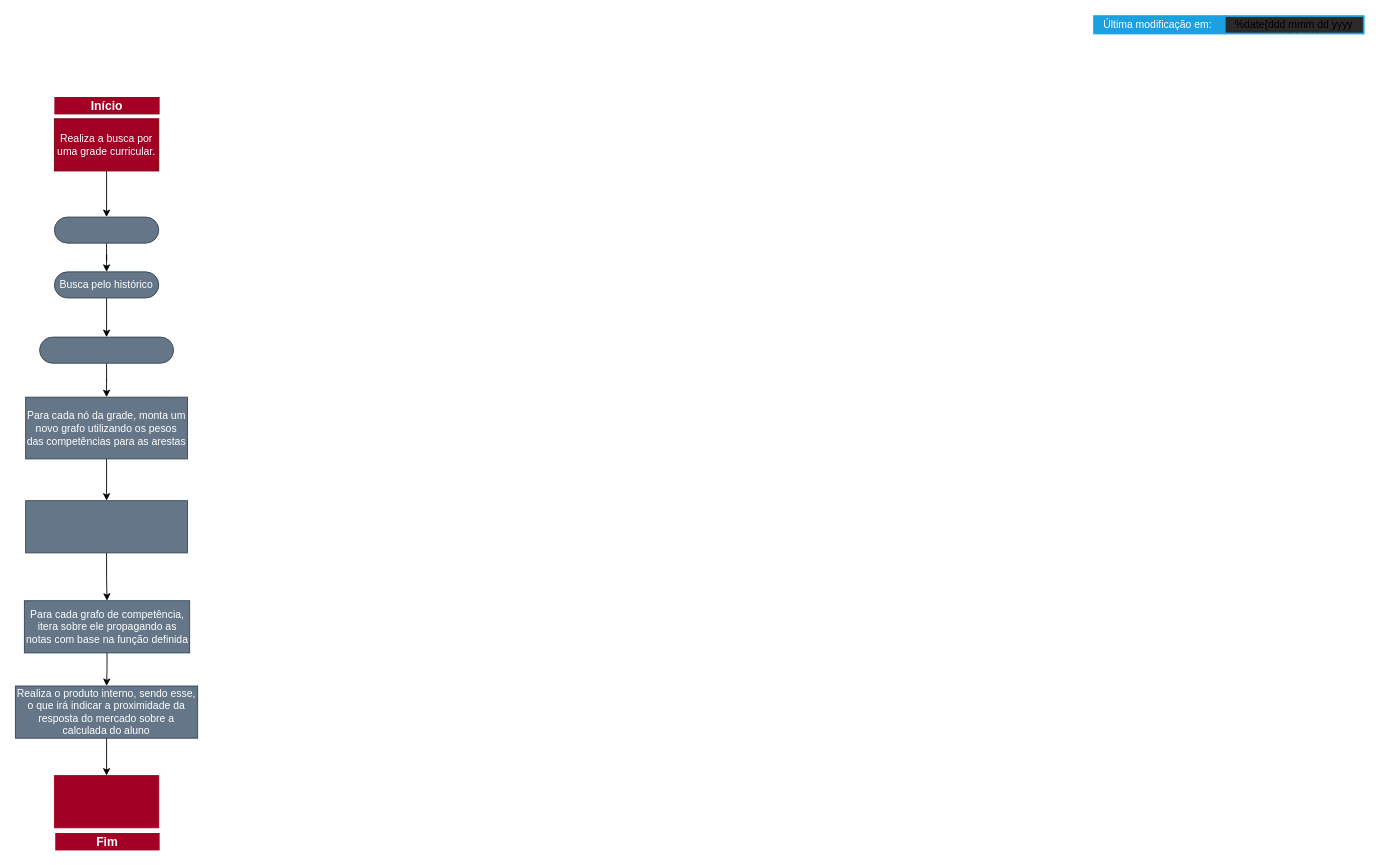
Image size: 1380x865. Some labels were removed from this diagram. Each missing label, with the centre of its shape:
"Busca por grade" belongs at point 106,229.
"Carrega o arquivo com os valores do mercado" belongs at point 106,526.
"Monta as competências" belongs at point 106,349.
"Retorna a resposta para o usuário" belongs at point 106,801.
